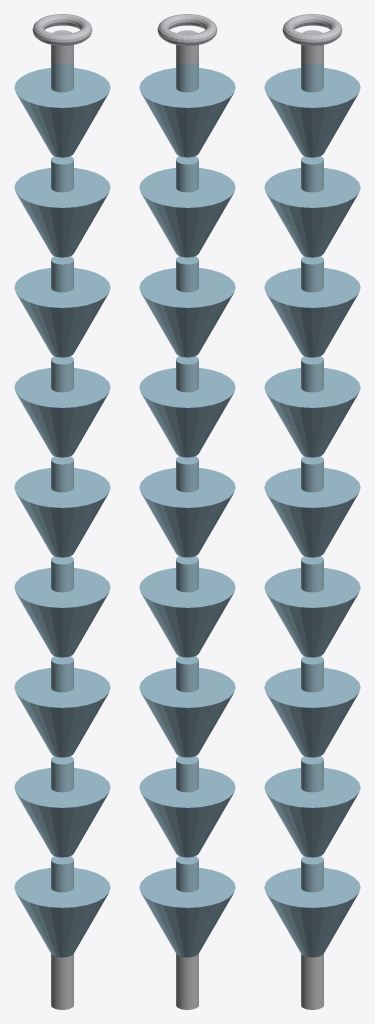
Rendered from Cadena_1121mm.fbx.
3 views of the same model, side by side, from view 1: azimuth 90°, elevation 25°; view 2: azimuth 150°, elevation 25°; view 3: azimuth 270°, elevation 25° (orthographic).
Parts seen in each view (by area): view 1: Cadena_1121mm; view 2: Cadena_1121mm; view 3: Cadena_1121mm.
Part boxes in pixels (x1,y1,x2,y2): Cadena_1121mm: (14,14,110,1009); Cadena_1121mm: (139,14,235,1009); Cadena_1121mm: (264,14,360,1009).
Size of the model in its own units: 10 by 112 by 10.
